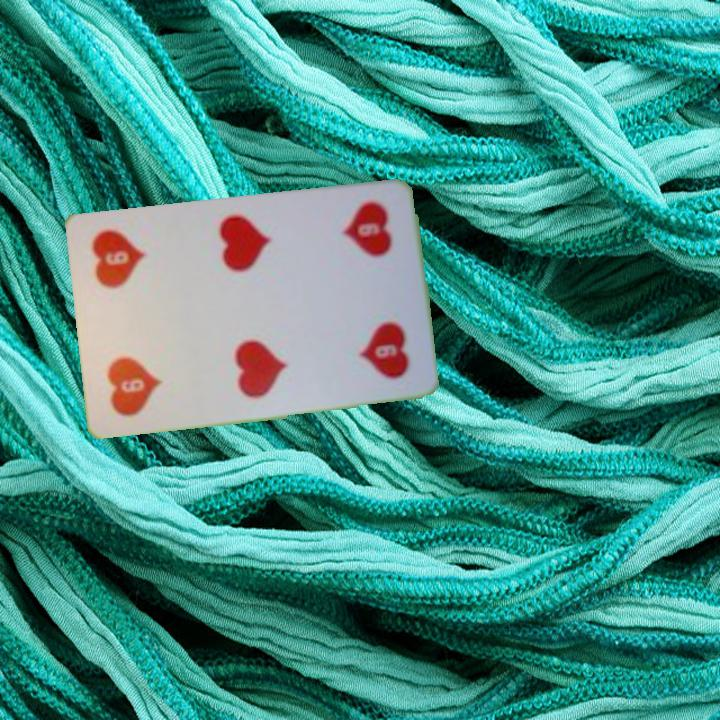h_6.png: (316, 194, 412, 302), (92, 313, 187, 421)
